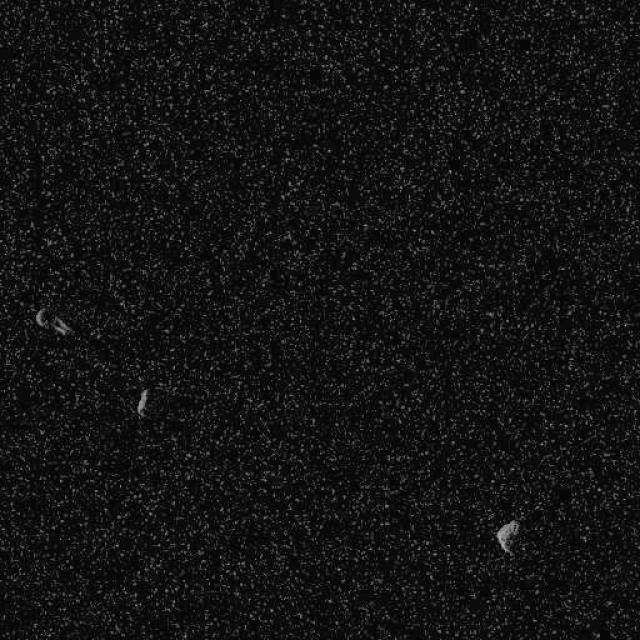D2: (34, 306, 72, 338), (495, 519, 519, 555), (135, 388, 149, 417)
